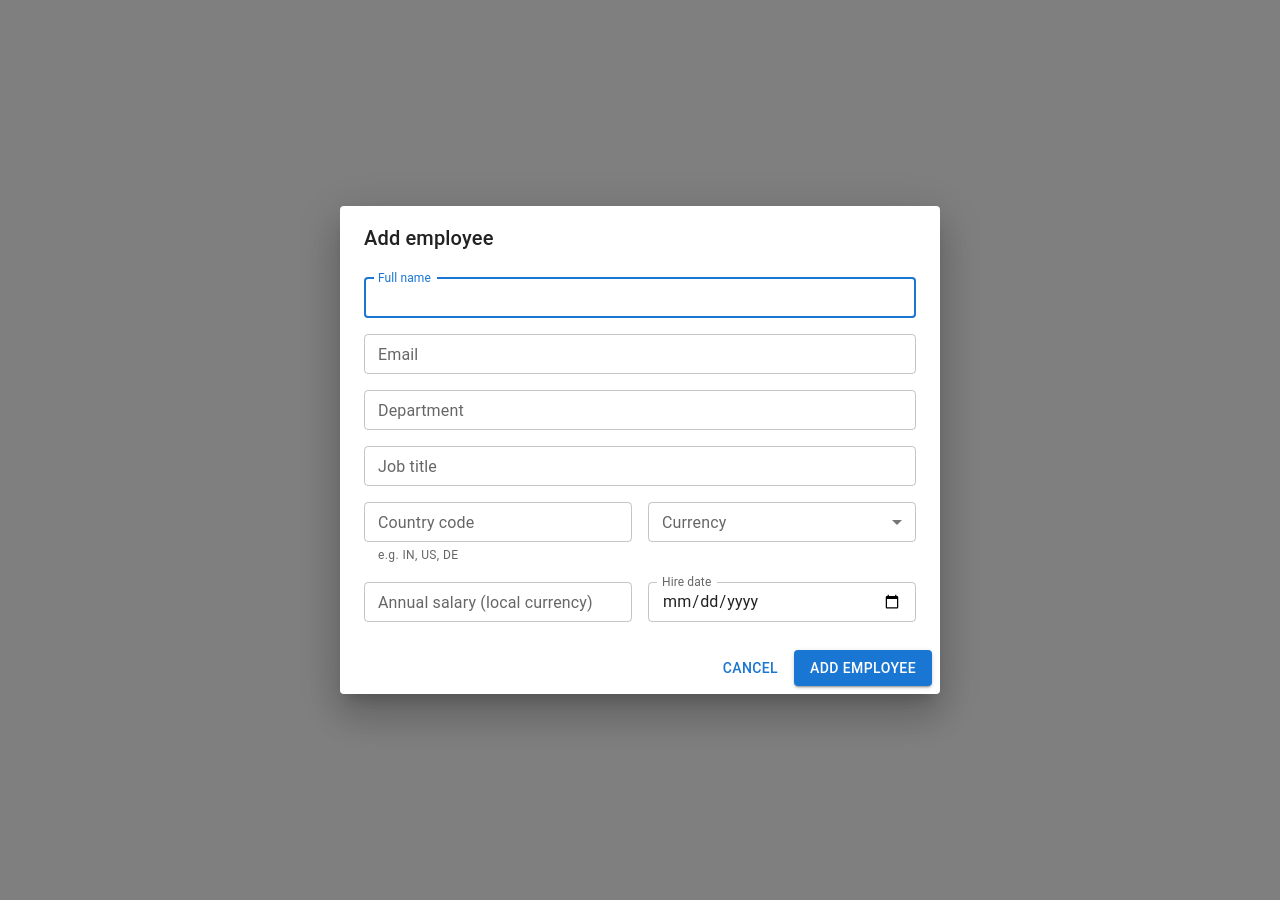
EmployeeFormDialog › shows errors and does not submit when required fields are empty
What coordinates should you click on to do the following:
click the button "Add employee"
I would click on:
 (863, 668)
Its box is [794,650,932,686].
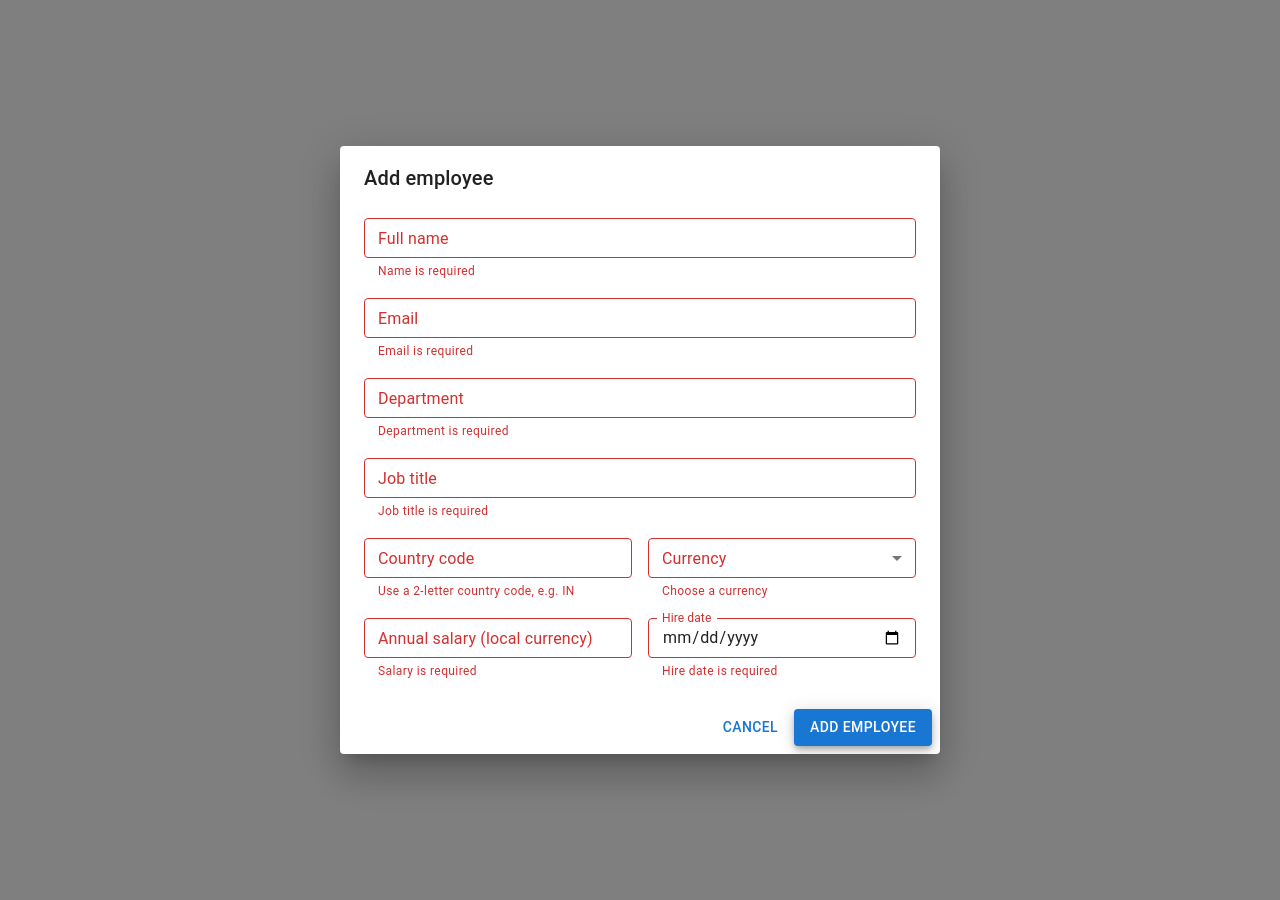
Check: the text "Name is required" is shown, box [378,264,475,278]
Check: the text "Salary is required" is shown, box [378,664,477,678]
